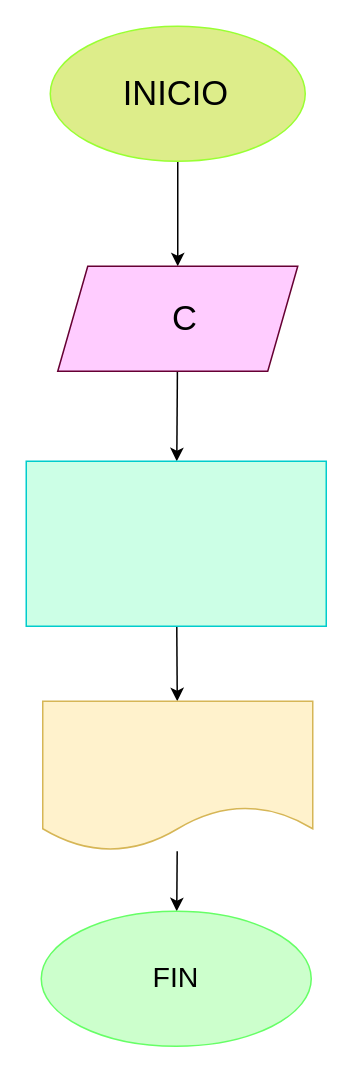
Some shapes in this 353 by 1073 pixel diagram are drawn without their labels. Each missing label, with the box of its shape:
F.K: (41, 700, 313, 851)
F= 1.BC +32 K=C + 273.15: (25, 460, 326, 626)
